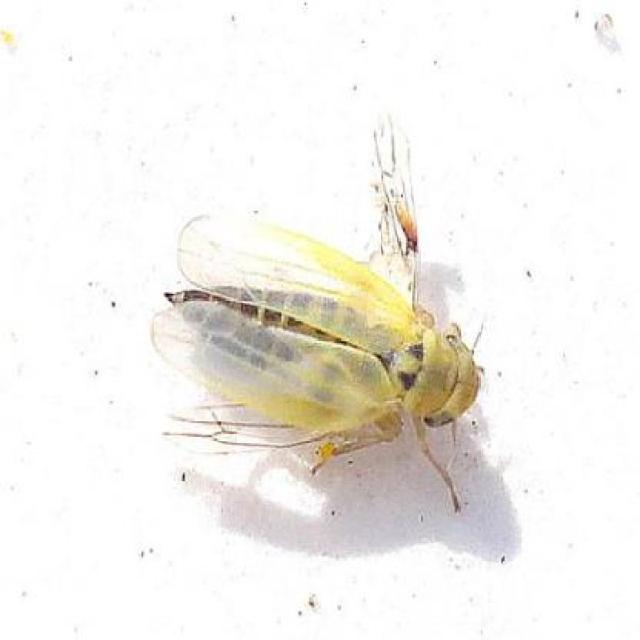green-leafhopper: (144, 202, 478, 483)
